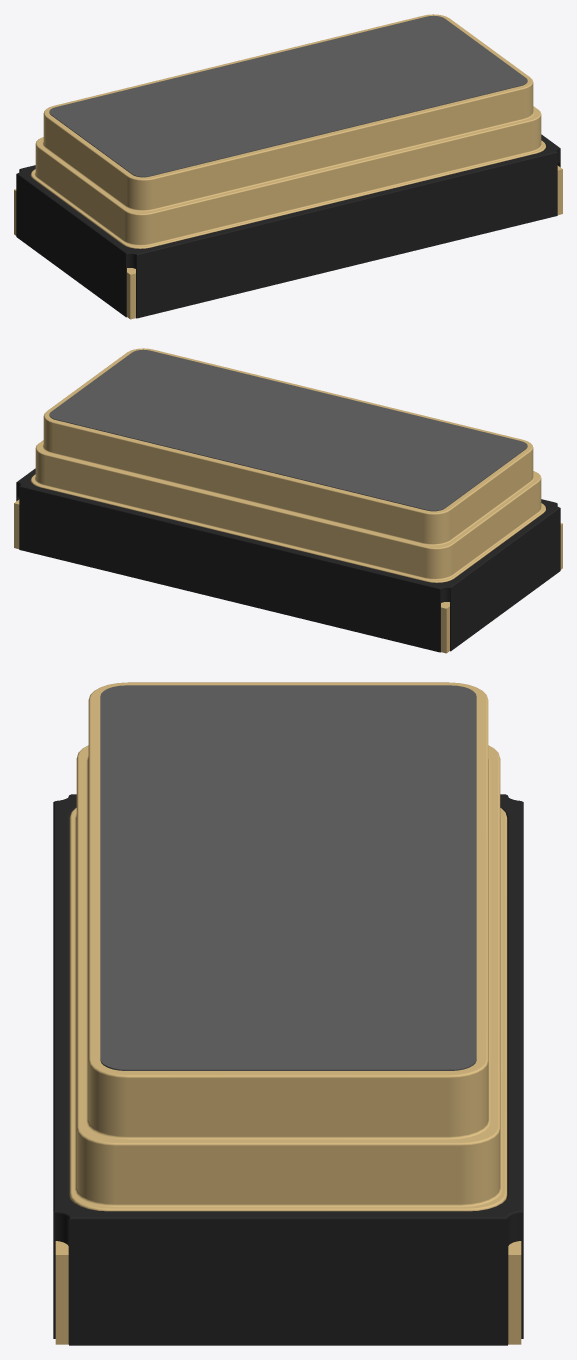
File: Crystal_SMD_3215-2Pin_3.2x1.5mm.normalized.glb
3 views of the same model, one above another, from view 1: azimuth 30°, elevation 25°; view 2: azimuth 150°, elevation 25°; view 3: azimuth 270°, elevation 25° (orthographic). The views are drawn at different scales.
Parts seen in each view (by area): view 1: PACKAGE_CANDIDATE__Crystal_SMD_3215-2Pin_3.2x1.5mm.001; view 2: PACKAGE_CANDIDATE__Crystal_SMD_3215-2Pin_3.2x1.5mm.001; view 3: PACKAGE_CANDIDATE__Crystal_SMD_3215-2Pin_3.2x1.5mm.001.
Boxes of the visible parts, left/top/right/bottom form: PACKAGE_CANDIDATE__Crystal_SMD_3215-2Pin_3.2x1.5mm.001: left=14, top=14, right=562, bottom=319; PACKAGE_CANDIDATE__Crystal_SMD_3215-2Pin_3.2x1.5mm.001: left=14, top=348, right=562, bottom=653; PACKAGE_CANDIDATE__Crystal_SMD_3215-2Pin_3.2x1.5mm.001: left=53, top=682, right=523, bottom=1345.
Bounding box in the file's own units: 0.0032 × 0.00093 × 0.0015.
